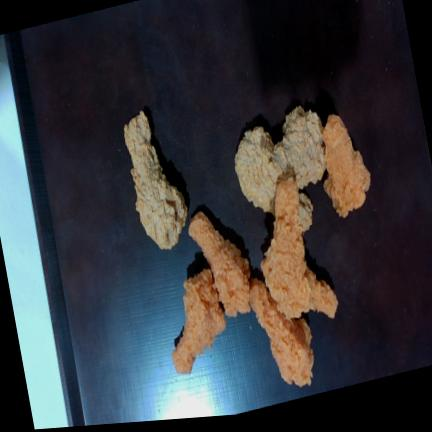chicken: (124, 111, 188, 249), (250, 279, 314, 387), (261, 178, 310, 318), (189, 211, 250, 317), (172, 269, 226, 373), (322, 115, 370, 217), (235, 126, 291, 213), (275, 105, 326, 188)
